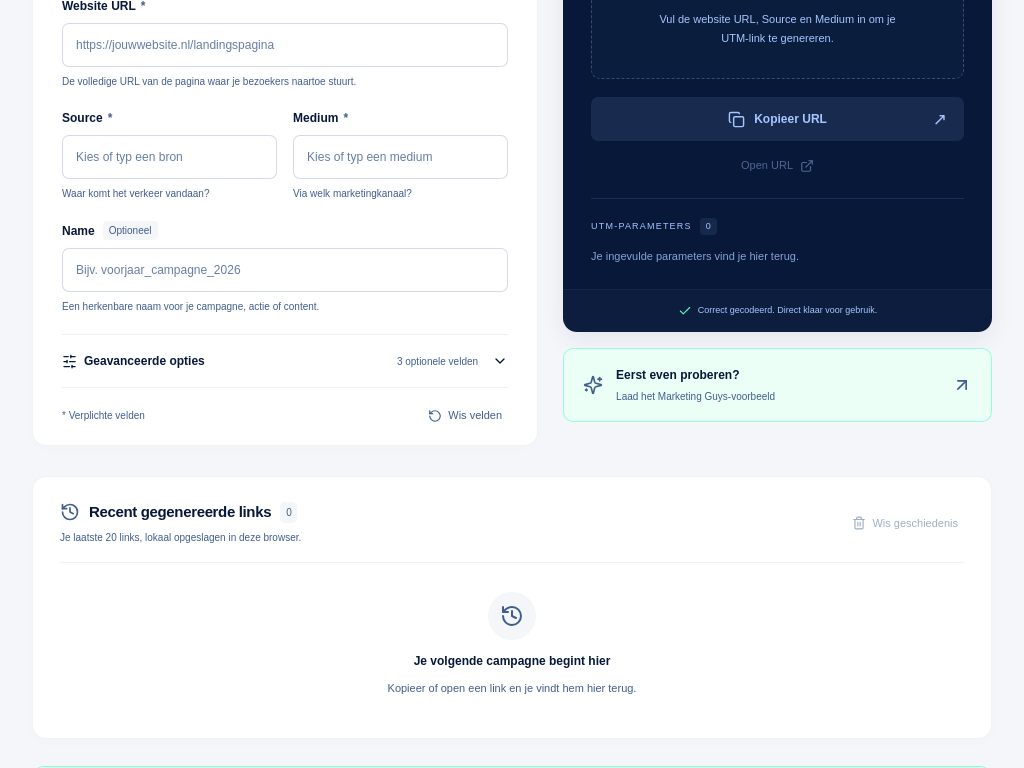
belangrijkste gebruikersacties › toont een fout bij geweigerde klembordtoegang zonder geschiedenis op te slaan
(page scrolled)
What coordinates should you click on to do the following:
click the button "Eerst even proberen? Laad het Marketing Guys-voorbeeld"
I would click on:
 (678, 375)
Its box is [563,348,992,422].
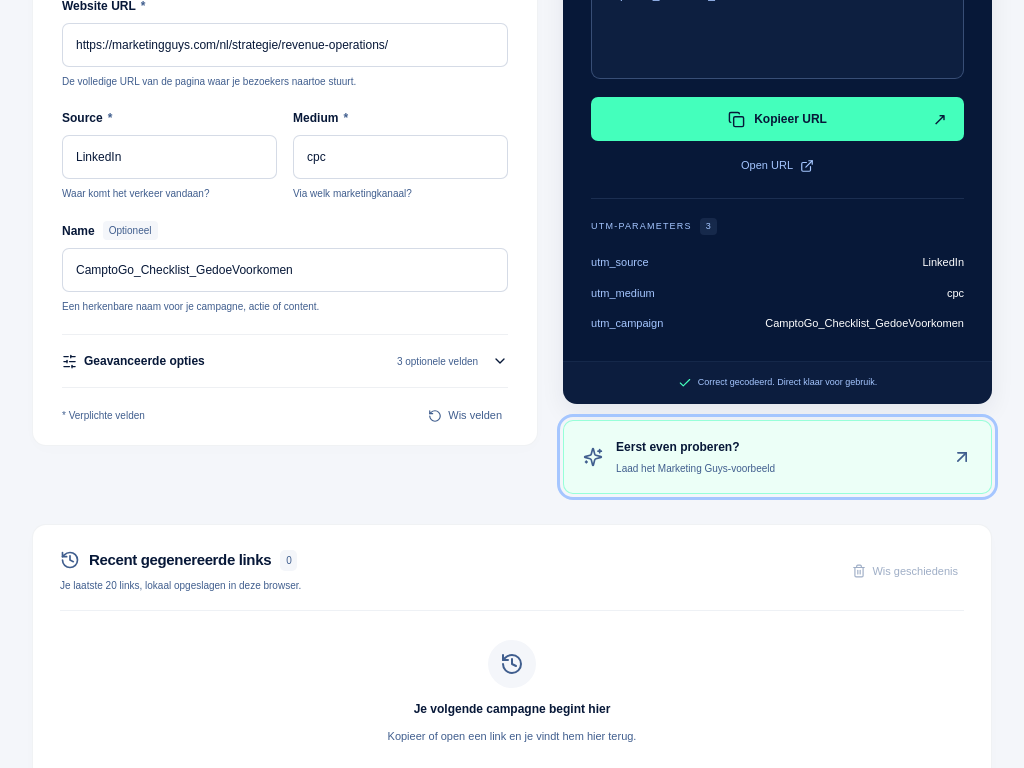
What coordinates should you click on to do the following:
click the button "Kopieer URL ↗"
I would click on:
 (778, 119)
Its box is [591,97,964,141].
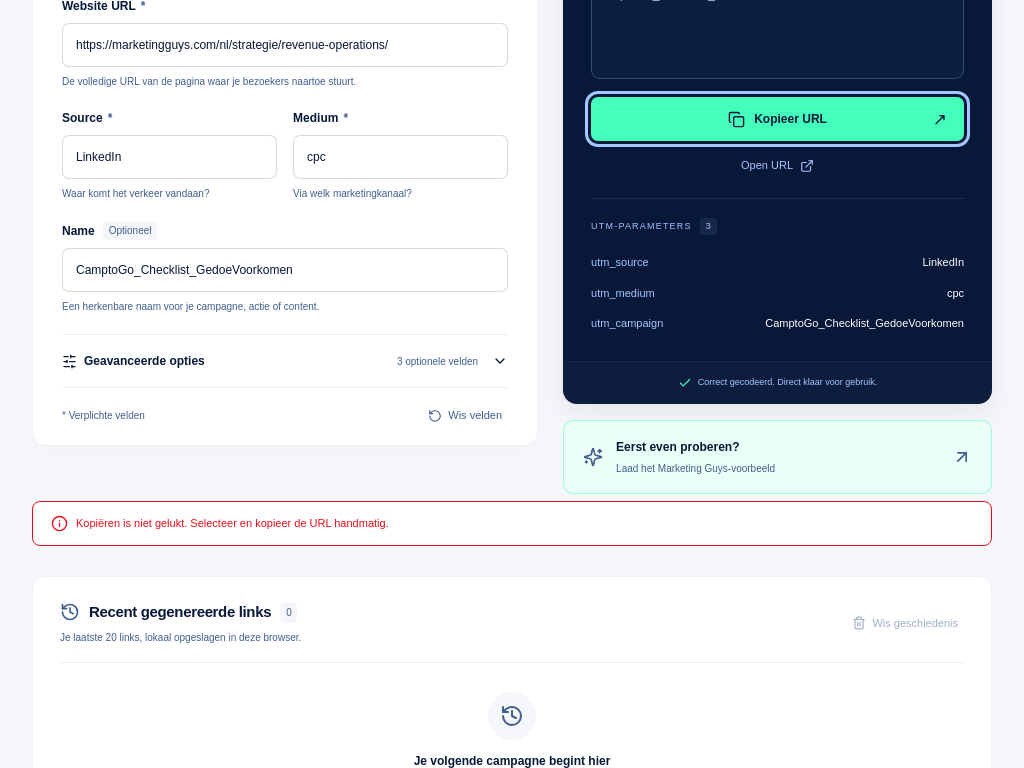
Check: the text "Kopiëren is niet gelukt. Selecteer en kopieer de URL handmatig." is shown, box [32,501,992,546]
